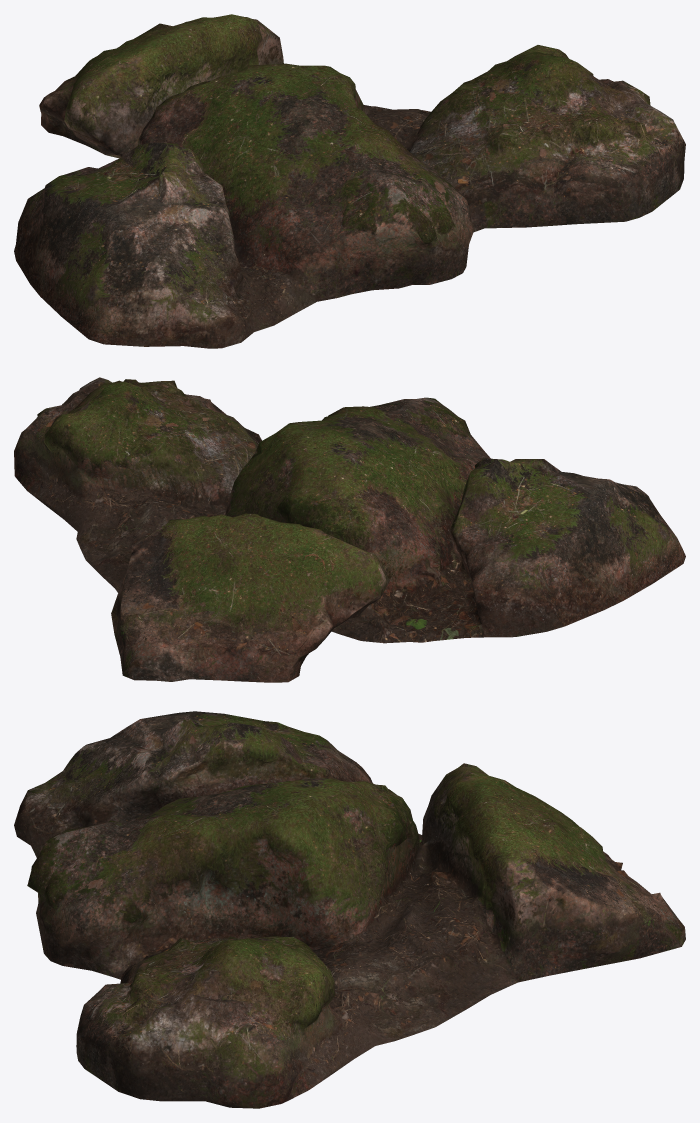
File: nordic_forest_cluster_rock_small_xjijdiz_mid.glb
The picture shows the model from 3 angles, top to bottom: view 1: azimuth 30°, elevation 25°; view 2: azimuth 150°, elevation 25°; view 3: azimuth 270°, elevation 25°; orthographic projection. The views are drawn at different scales.
Visible parts, largest first — view 1: xjijdiz_LOD0_TIER2_000; view 2: xjijdiz_LOD0_TIER2_000; view 3: xjijdiz_LOD0_TIER2_000.
Part boxes in pixels (bbox=[...]): xjijdiz_LOD0_TIER2_000: bbox=[14, 14, 685, 348]; xjijdiz_LOD0_TIER2_000: bbox=[14, 377, 685, 682]; xjijdiz_LOD0_TIER2_000: bbox=[14, 711, 685, 1108].
Size of the model in its own units: 1.93 by 0.382 by 1.66.
1 material, 1 textured.
